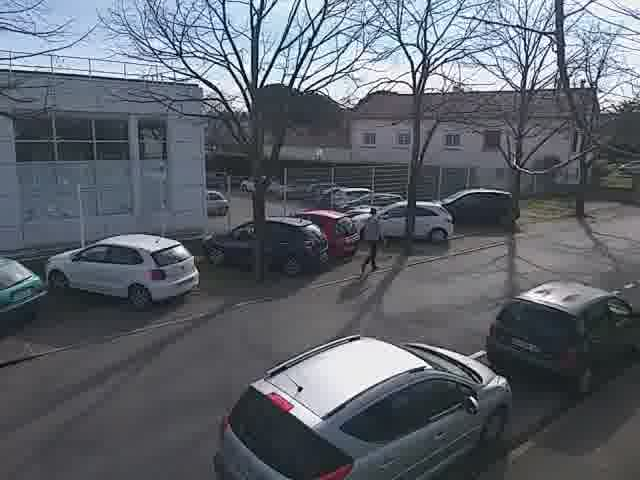persona: (354, 199, 389, 279)
